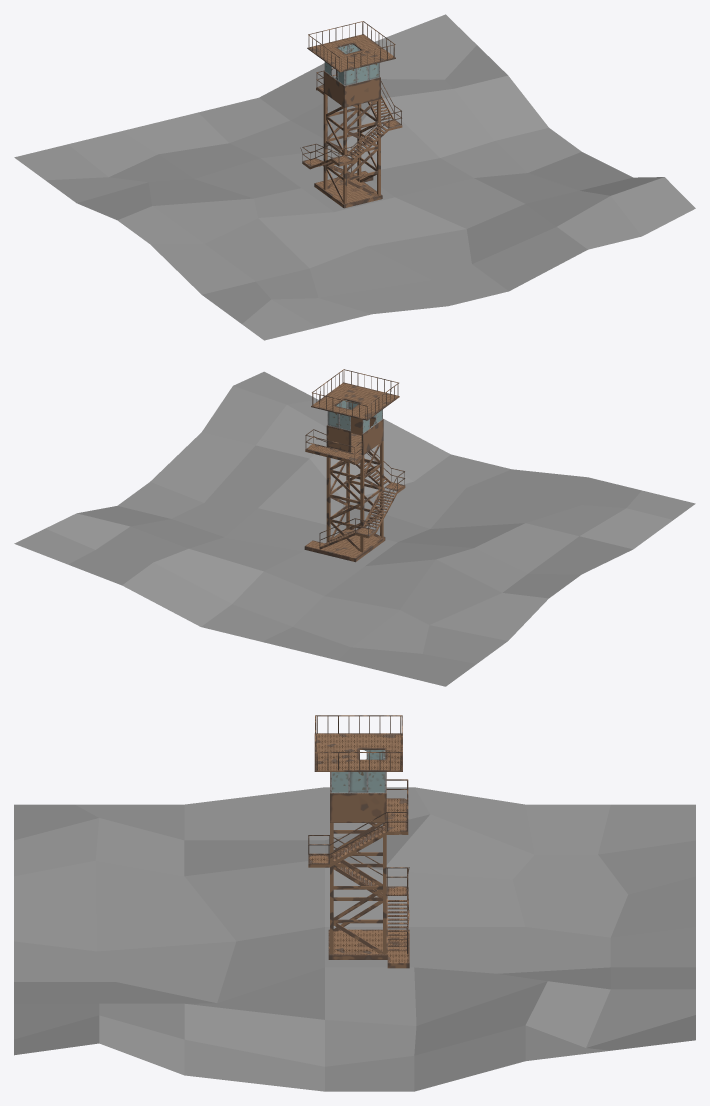
The model's file is Vishka.fbx.
The picture shows the model from 3 angles, top to bottom: view 1: azimuth 30°, elevation 25°; view 2: azimuth 150°, elevation 25°; view 3: azimuth 270°, elevation 25°; orthographic projection. The views are drawn at different scales.
Visible parts, largest first — view 1: Plane003, Watchtower; view 2: Plane003, Watchtower; view 3: Plane003, Watchtower.
Part boxes in pixels (left/top/right/bottom): Plane003: left=14, top=14, right=695, bottom=340; Watchtower: left=300, top=21, right=402, bottom=208; Plane003: left=14, top=371, right=695, bottom=686; Watchtower: left=304, top=369, right=405, bottom=562; Plane003: left=14, top=787, right=695, bottom=1091; Watchtower: left=308, top=715, right=409, bottom=968.
Size of the model in its own units: 2624 by 970 by 2634.
